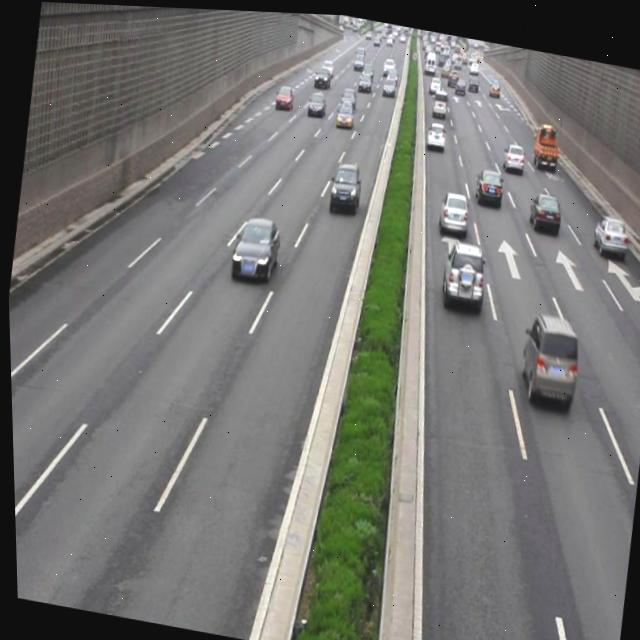car: (434, 235, 488, 306), (226, 211, 279, 283), (587, 206, 629, 255), (326, 159, 362, 212), (433, 185, 470, 236), (525, 185, 561, 231), (471, 162, 503, 204), (500, 137, 526, 169)
truck: (512, 308, 581, 410)
